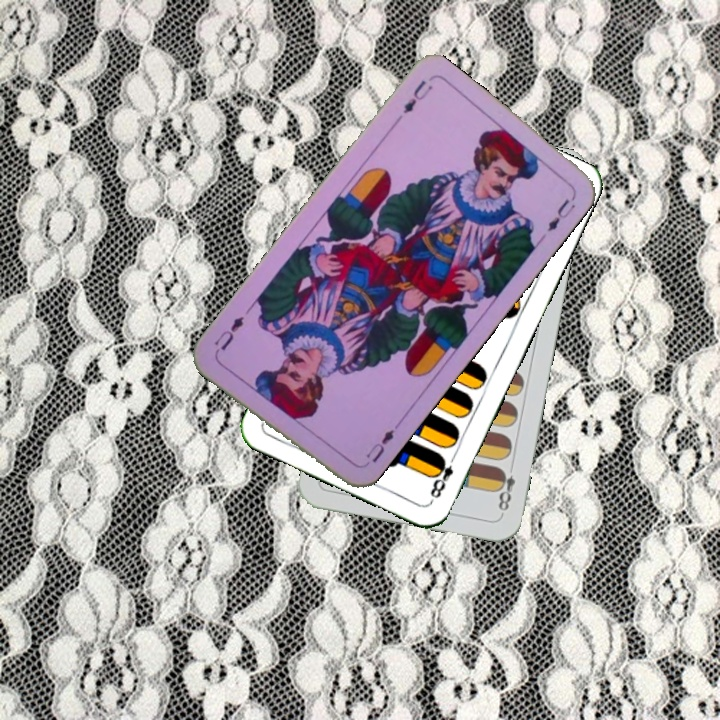E8: (426, 449, 460, 504), (493, 464, 518, 517)
EU: (359, 425, 397, 470), (399, 76, 436, 116)
